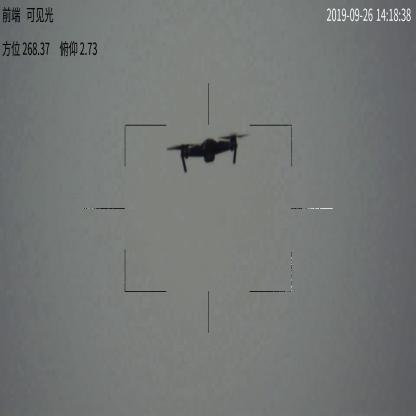uav: (166, 134, 249, 176)
